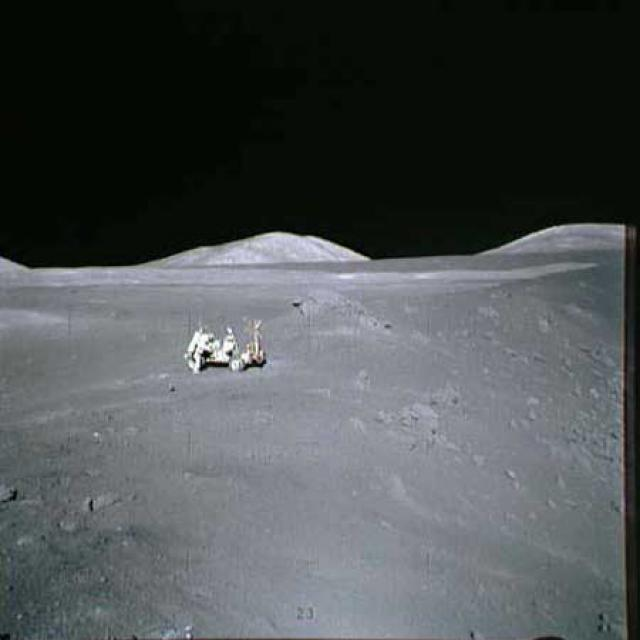artifact: (172, 312, 278, 377)
rock: (277, 282, 394, 341)
